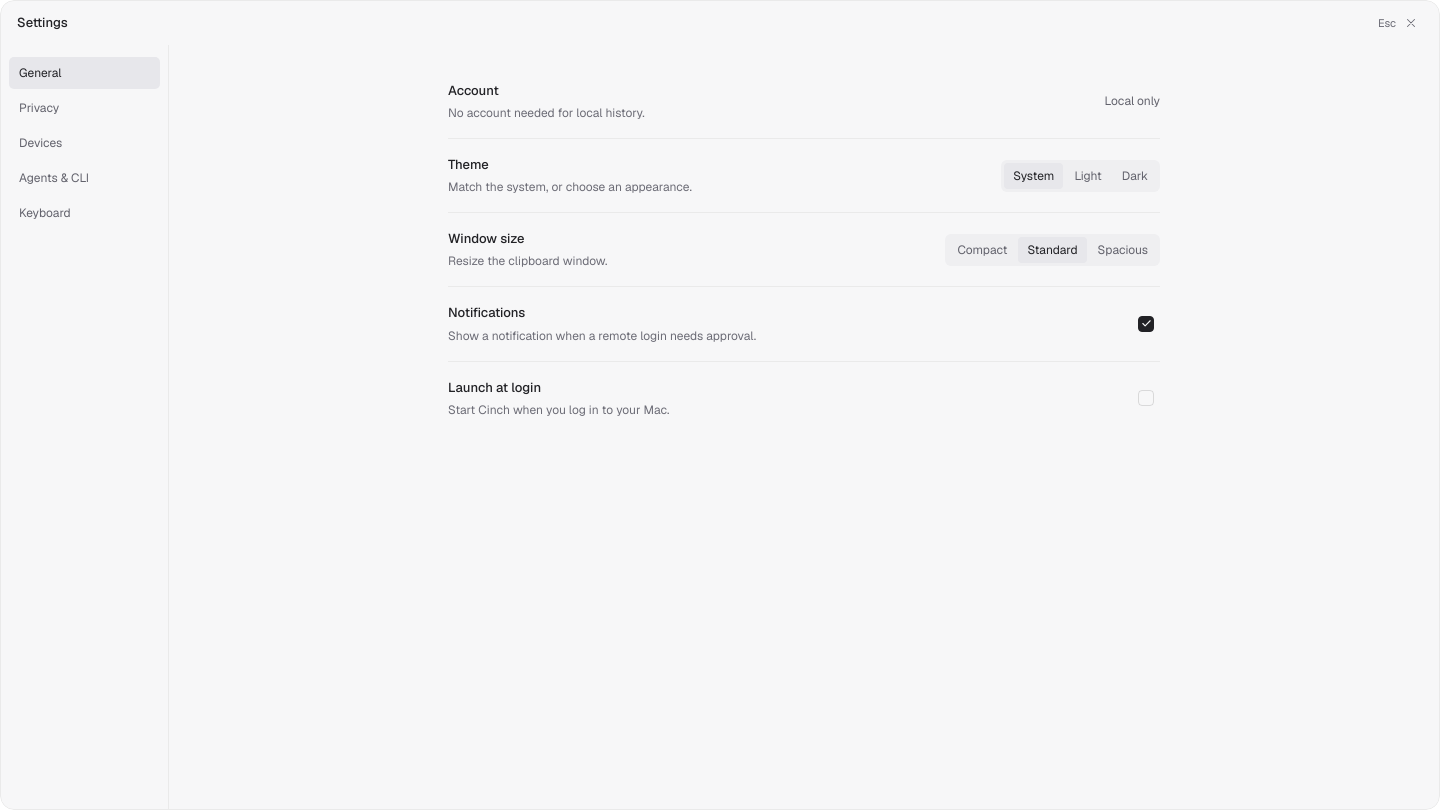
SettingsPane › Clip action shortcuts › blocks a conflicting binding, shows an inline error, and persists nothing
Click the button "Keyboard".
click(84, 213)  # box [9, 197, 160, 229]
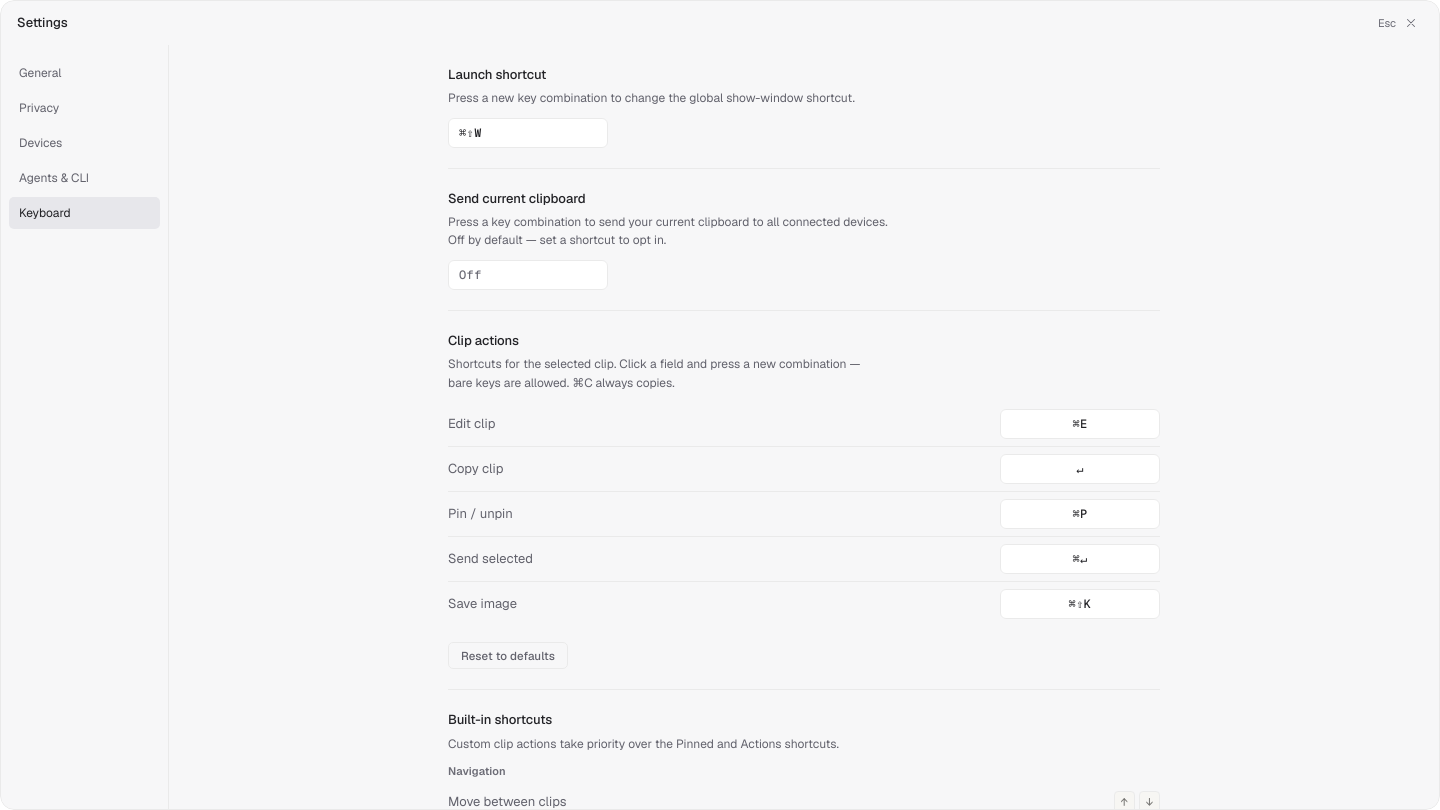
// Bare Enter is Copy's default binding → duplicate-within-four conflict.
Press Enter in the field named "Edit clip shortcut", box [1000, 409, 1160, 439]
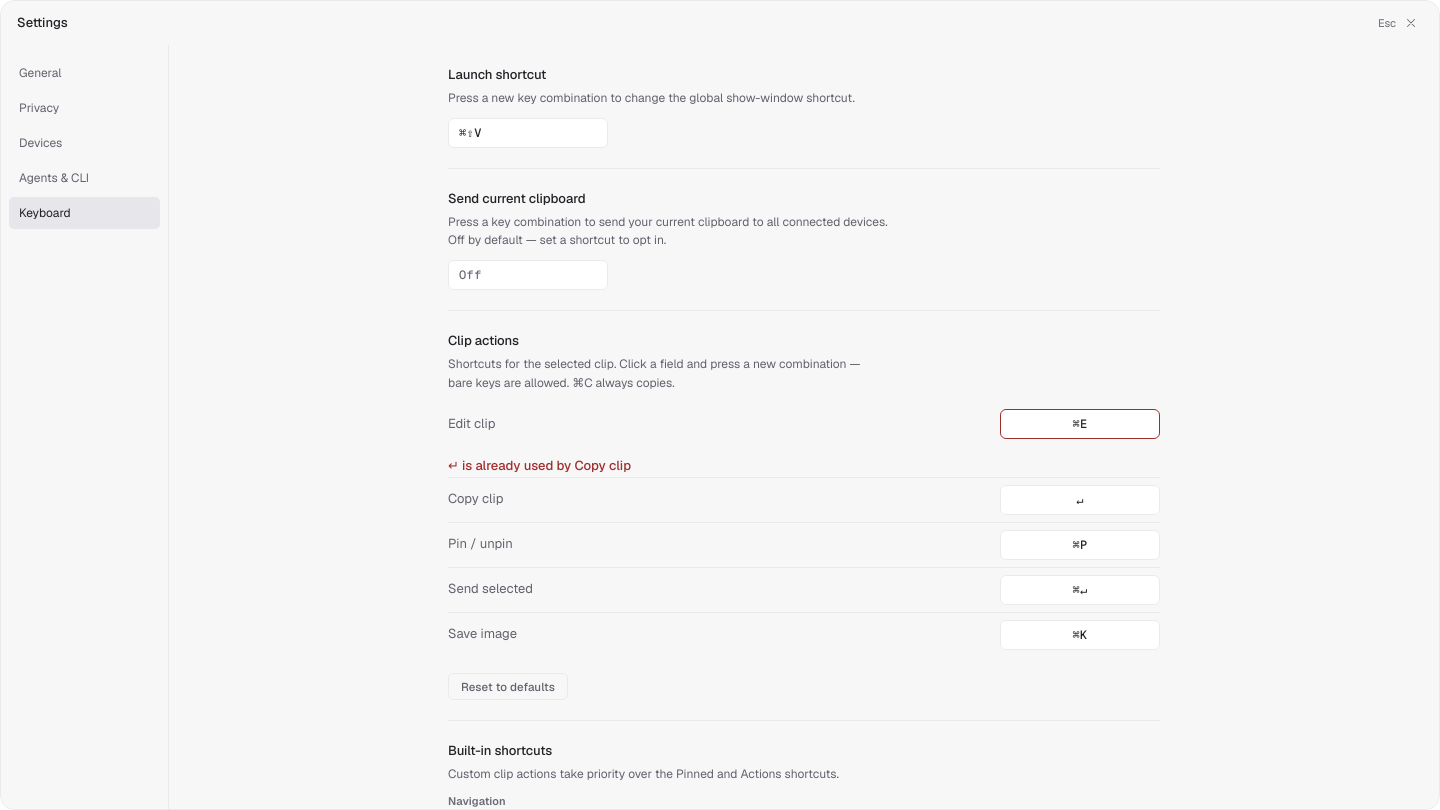
Check: the text "↵ is already used by Copy clip" is shown, box [448, 457, 631, 474]
